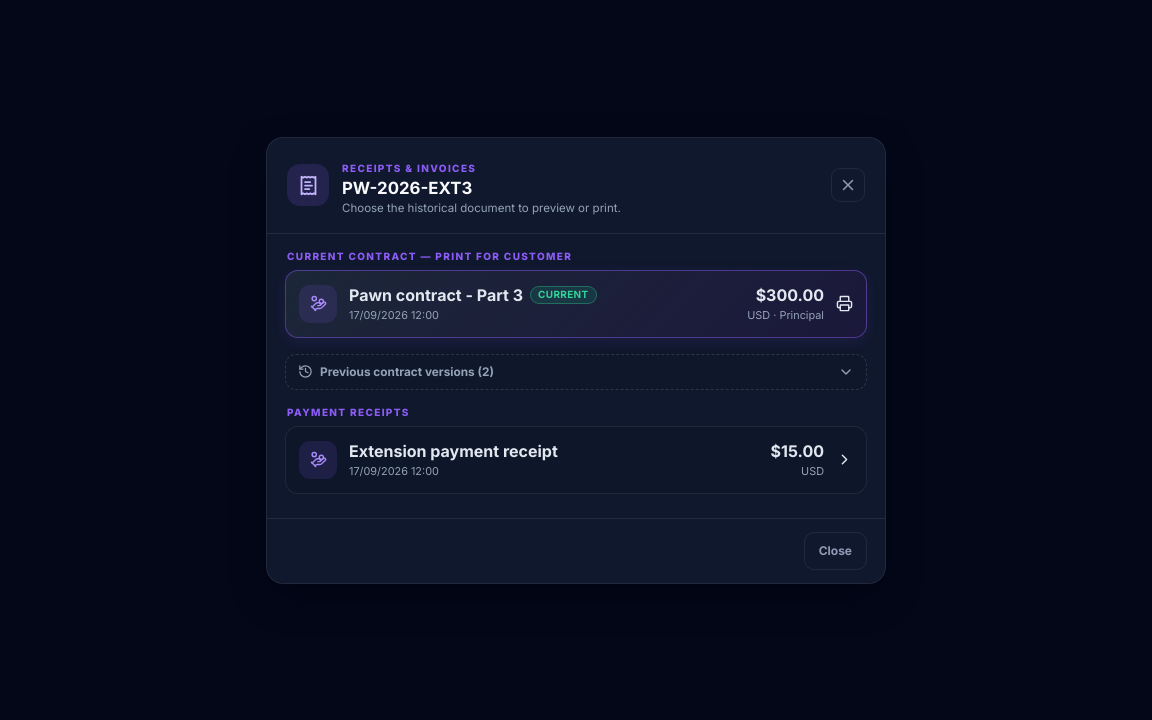
Test: ReceiptCenterBridge component › handles multiple extensions with Part 3 as current and reprinting older parts from collapsed section
The width and height of the screenshot is (1152, 720).
Check: the dialog "PW-2026-EXT3" is shown, box [266, 136, 886, 584]
Check: the text "Current contract — Print for customer" is shown, box [287, 250, 572, 262]
Click the button "Previous contract versions (2)": (401, 372) [285, 354, 867, 390]
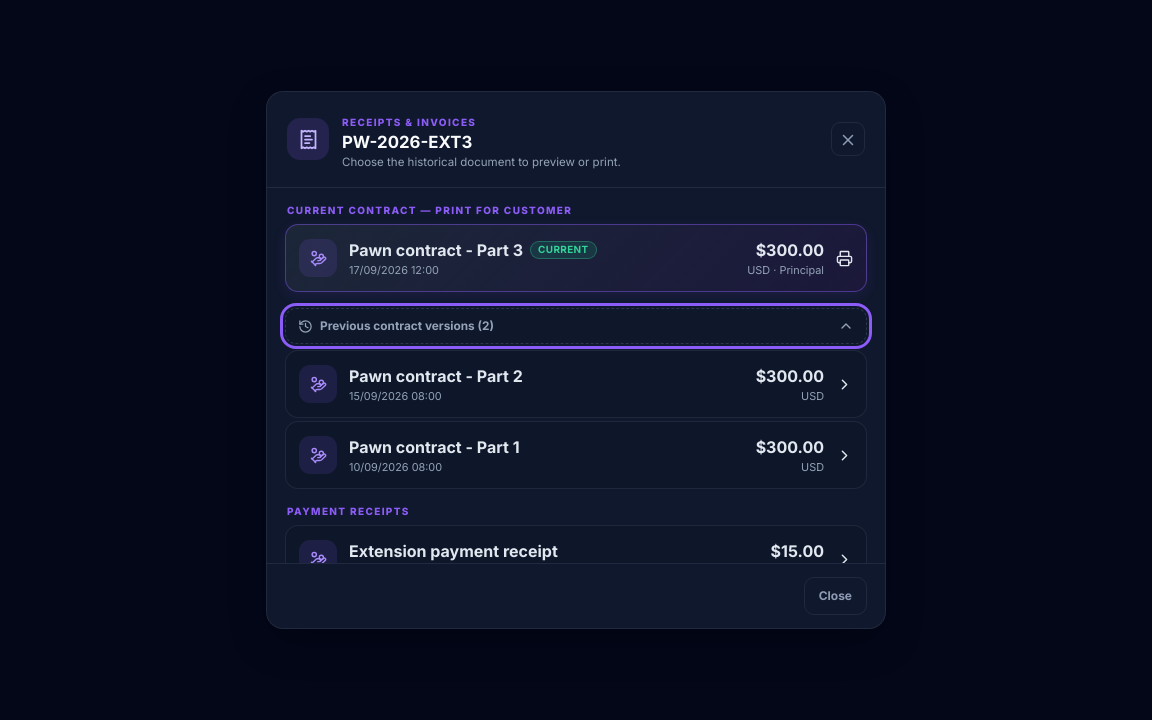
Check: the text "Pawn contract - Part 2" is shown, box [349, 366, 523, 386]
Check: the text "Pawn contract - Part 1" is shown, box [349, 437, 520, 457]
Click the button "Pawn contract - Part 1 10/09/2026 08:00 $300.00 USD": (318, 455) [285, 421, 867, 489]
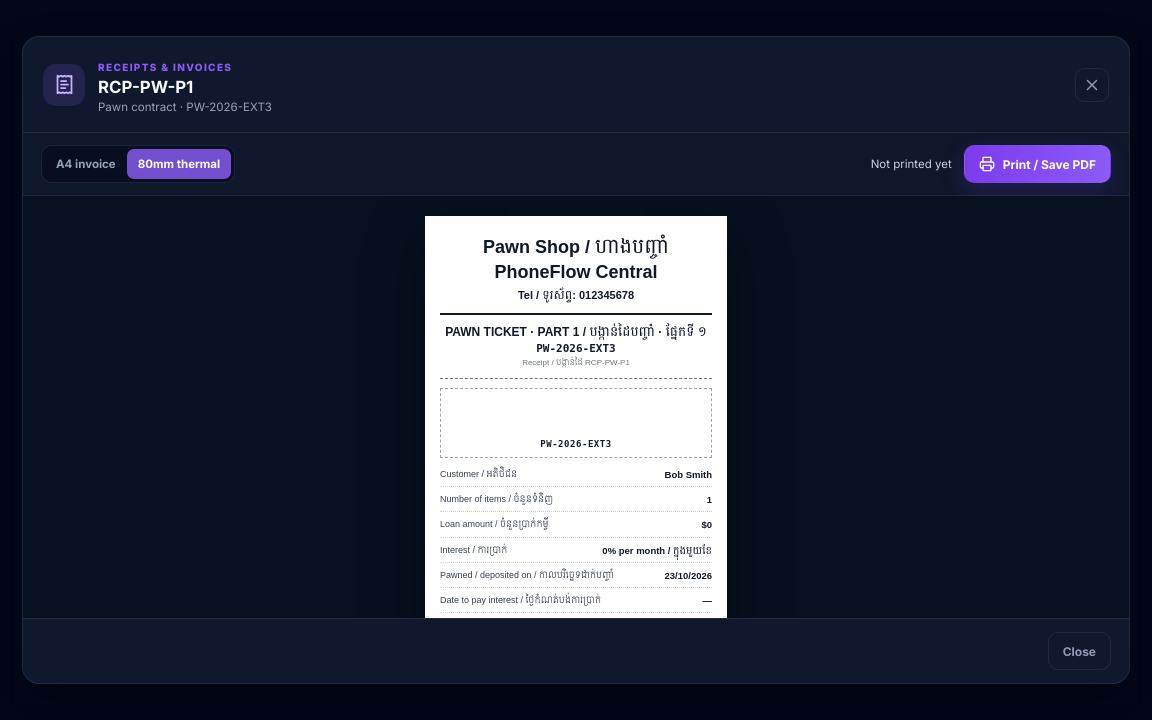
Check: the dialog "RCP-PW-P1" is shown
